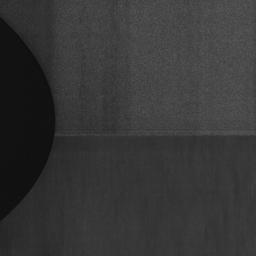Crescent gap: (0, 17, 56, 221)
